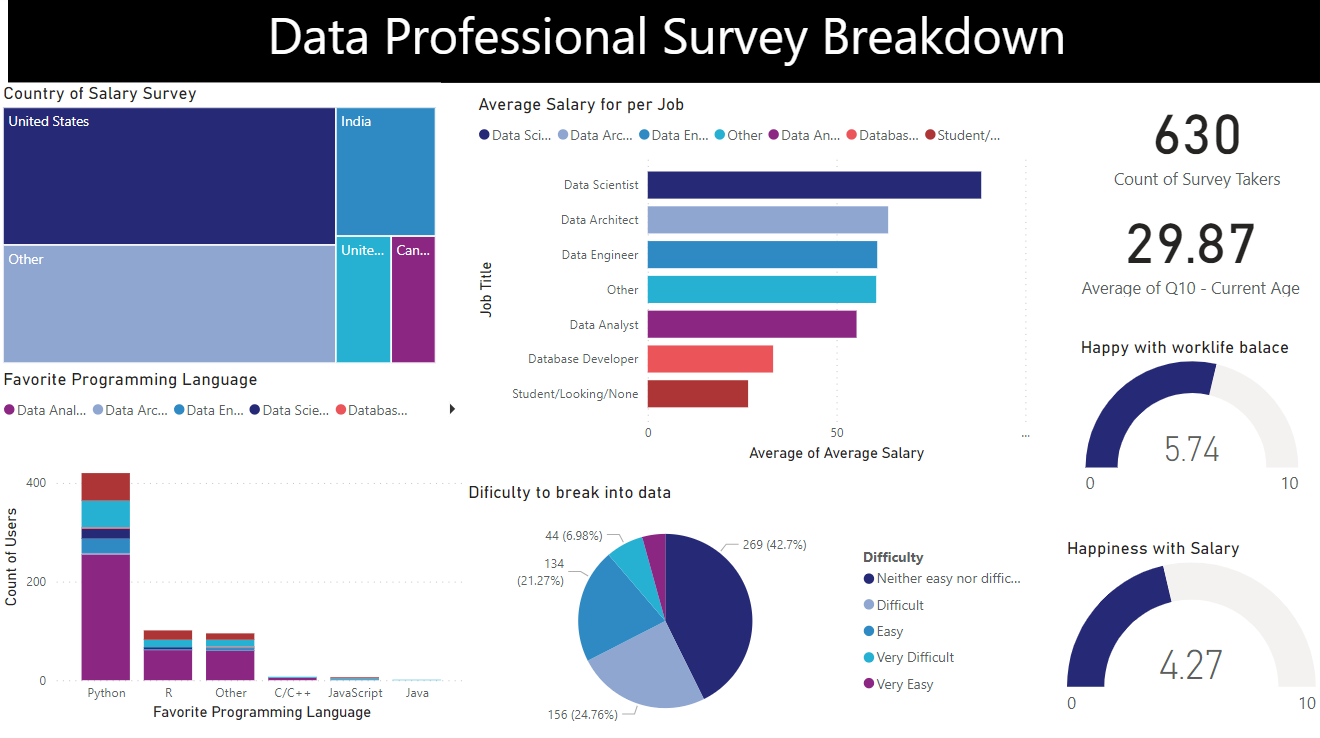

The dashboard page shown, as its layout file describes it:
{"tool":"powerbi","page":{"name":"Page 1","canvas":[1280,720],"ordinal":0},"visuals":[{"type":"textbox","box":[9.6,0,1271,85],"z":0},{"type":"card","fields":{"Values":["Count(Data Professional Survey.Unique ID)"]},"box":[1048.8,85.7,215.7,105.8],"z":1000},{"type":"card","fields":{"Values":["Avg(Data Professional Survey.Q10 - Current Age)"]},"box":[1022,191.5,258.5,104.5],"z":2000},{"type":"barChart","title":"Average Salary for per Job","fields":{"Category":["Data Professional Survey.Q1 - Which Title Best Fits your Current Role?.1"],"Y":["Avg(Data Professional Survey.Average Salary)"],"Series":["Data Professional Survey.Q1 - Which Title Best Fits your Current Role?.1"]},"box":[458.3,95.3,545.1,359.4],"z":3000},{"type":"columnChart","title":"Favorite Programming Language","fields":{"Category":["Data Professional Survey.Q5 - Favorite Programming Language.1"],"Y":["CountNonNull(Data Professional Survey.Unique ID)"],"Series":["Data Professional Survey.Q1 - Which Title Best Fits your Current Role?.1"]},"box":[0,360.3,458.1,344.2],"z":4000},{"type":"treemap","title":"Country of Salary Survey","fields":{"Values":["CountNonNull(Data Professional Survey.Q11 - Which Country do you live in?.1)"],"Group":["Data Professional Survey.Q11 - Which Country do you live in?.1"]},"box":[0,84.4,427.3,275.9],"z":4001},{"type":"gauge","title":"Happy with worklife balace","fields":{"MinValue":["Min(Data Professional Survey.Q6 - How Happy are you in your Current Position with the following? (Work/Life Balance))"],"MaxValue":["Max(Data Professional Survey.Q6 - How Happy are you in your Current Position with the following? (Work/Life Balance))"],"Y":["Avg(Data Professional Survey.Q6 - How Happy are you in your Current Position with the following? (Work/Life Balance))1"]},"box":[1039.4,329.5,225,163.4],"z":4002},{"type":"gauge","title":"Happiness with Salary","fields":{"Y":["Avg(Data Professional Survey.Q6 - How Happy are you in your Current Position with the following? (Salary))"],"MinValue":["Min(Data Professional Survey.Q6 - How Happy are you in your Current Position with the following? (Salary))"],"MaxValue":["Max(Data Professional Survey.Q6 - How Happy are you in your Current Position with the following? (Salary))"]},"box":[1026,523.7,250.5,180.8],"z":4003},{"type":"pieChart","title":"Dificulty to break into data","fields":{"Category":["Data Professional Survey.Q7 - How difficult was it for you to break into Data?"],"Y":["CountNonNull(Data Professional Survey.Q7 - How difficult was it for you to break into Data?)"]},"box":[448.6,469.1,554.8,250.9],"z":4004}]}

Visuals, with their boxes in screenshot pixels (x1, y1, x2, y2), scaled from the page's 1280x720 canvas onto the 1320x738 screenshot:
textbox: Rect(10, 0, 1319, 87)
card - Count(Data Professional Survey.Unique ID): Rect(1082, 88, 1304, 196)
card - Avg(Data Professional Survey.Q10 - Current Age): Rect(1054, 196, 1319, 303)
"Average Salary for per Job" barChart: Rect(473, 98, 1035, 466)
"Favorite Programming Language" columnChart: Rect(0, 369, 472, 722)
"Country of Salary Survey" treemap: Rect(0, 87, 441, 369)
"Happy with worklife balace" gauge: Rect(1072, 338, 1304, 505)
"Happiness with Salary" gauge: Rect(1058, 537, 1316, 722)
"Dificulty to break into data" pieChart: Rect(463, 481, 1035, 737)
